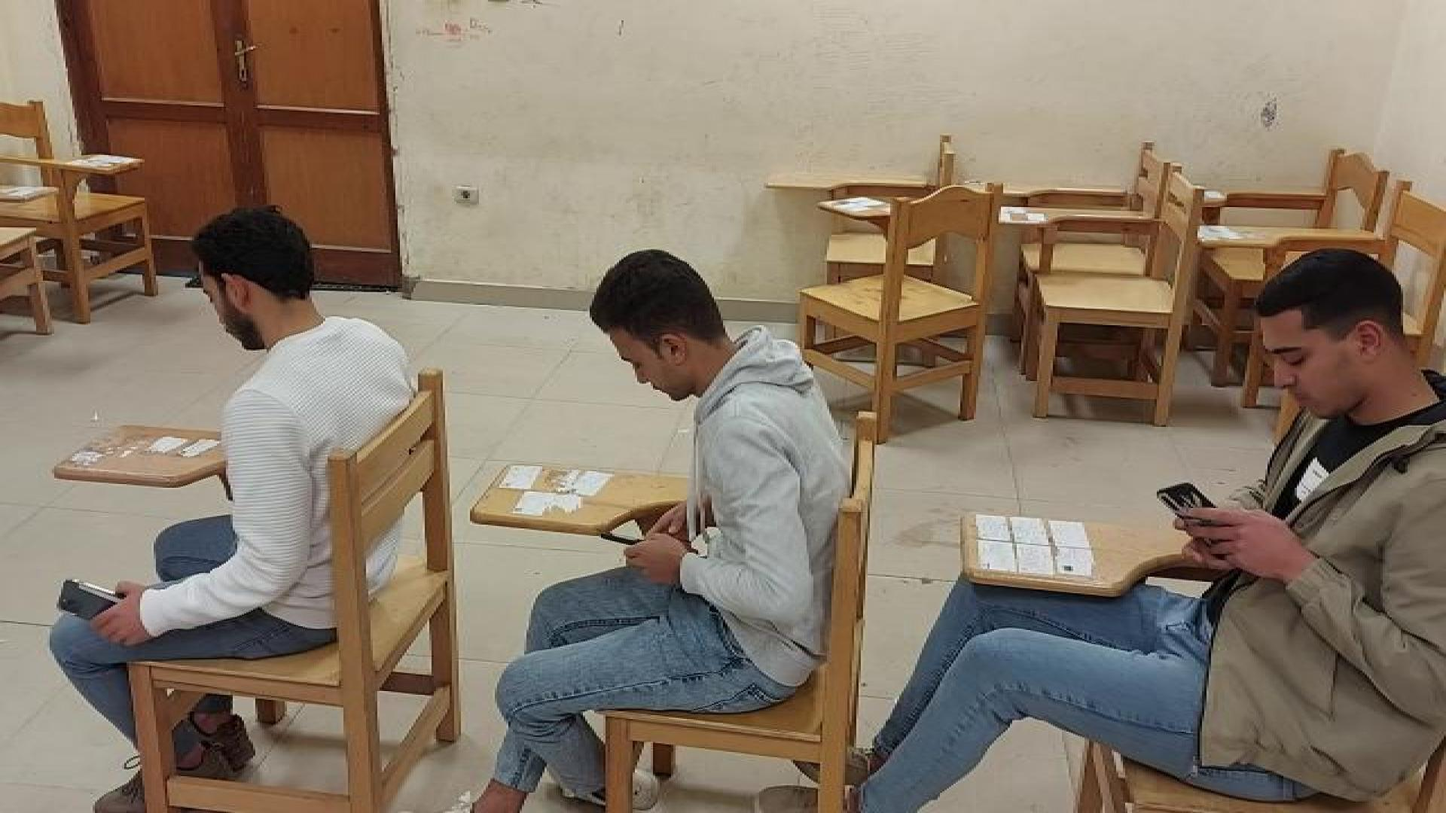phone: (1153, 483, 1226, 535), (54, 577, 129, 621), (599, 528, 660, 546)
